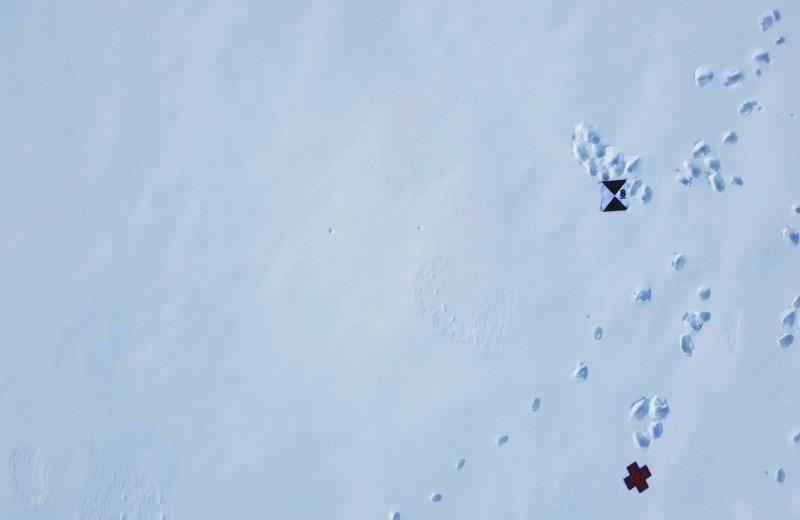Cross: (612, 448, 655, 506)
